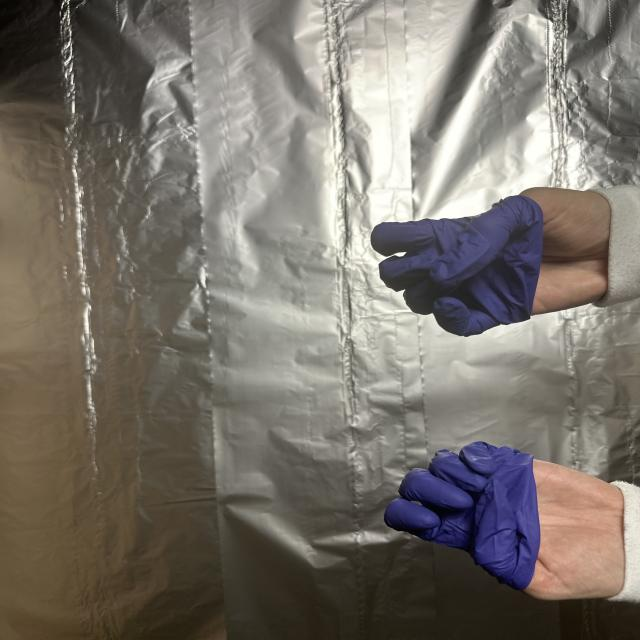glove_partial: (381, 438, 630, 603), (365, 181, 614, 336)
